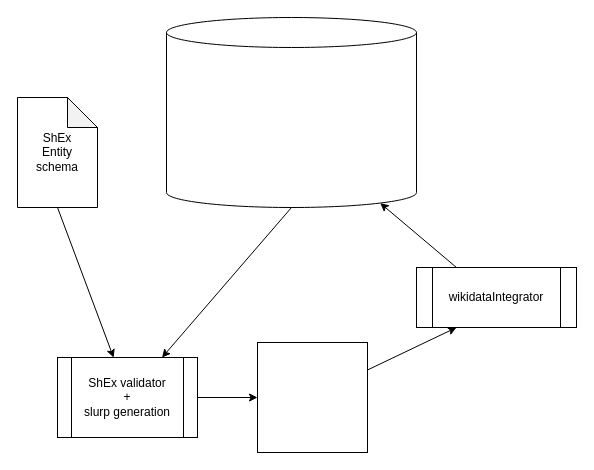
The diagram is 594 pixels wide and 470 high, and some of its shapes have lost their labels. Here are the shapes that lost their labels. From the top down, the box of each, then its label:
(166, 16, 416, 208): Wikidata
(256, 342, 368, 452): slurper
